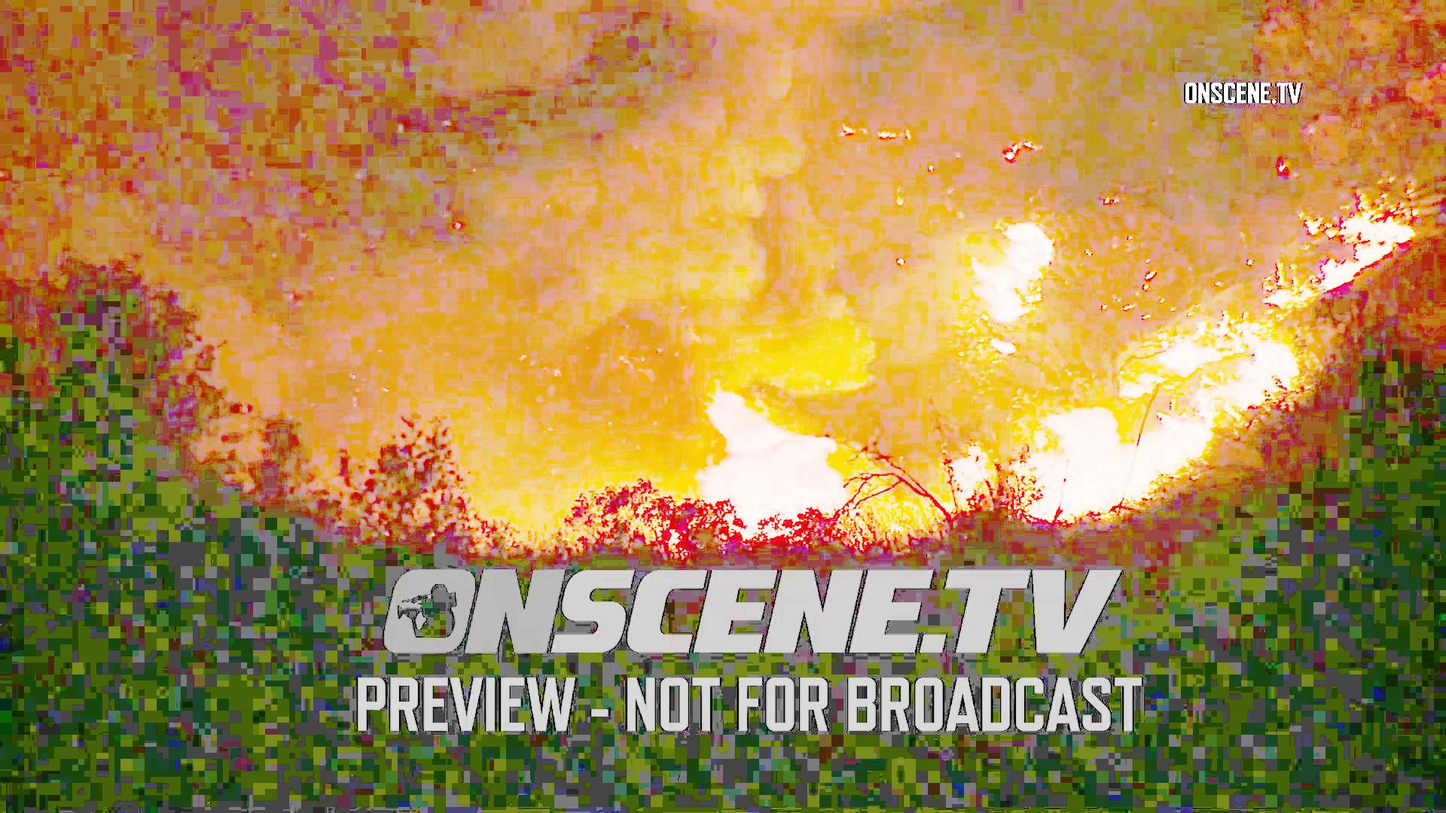fire: (1134, 301, 1314, 437), (1027, 379, 1165, 529), (695, 397, 838, 532), (991, 221, 1082, 321)
